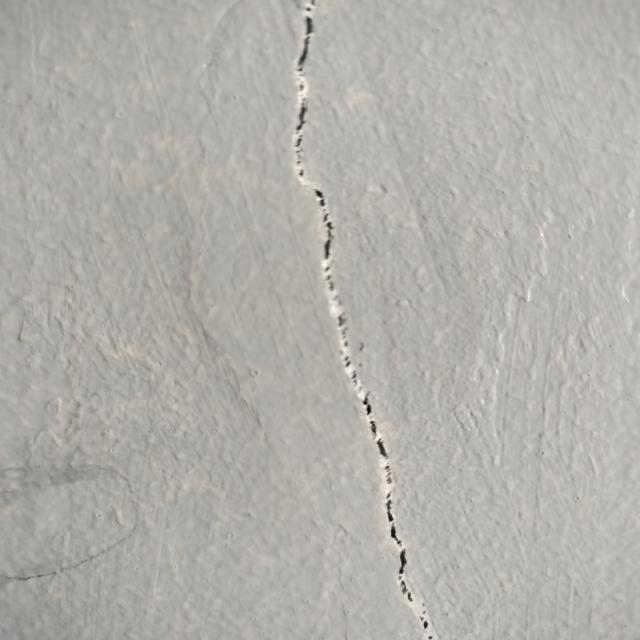Crack: (284, 0, 440, 638)
